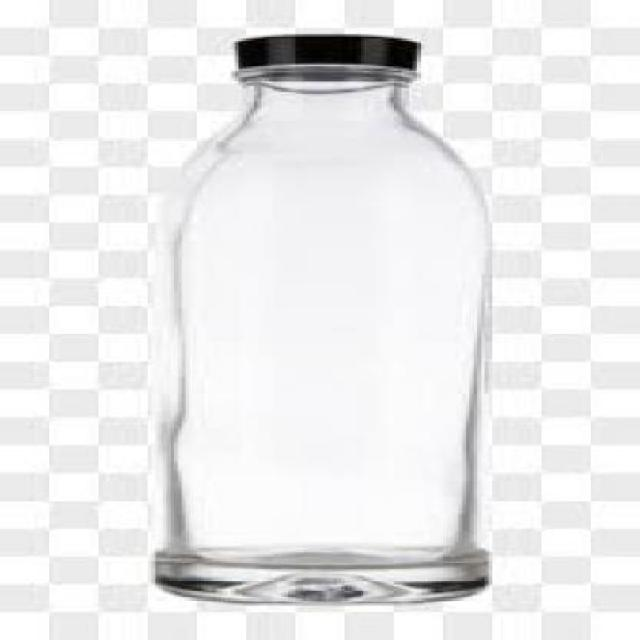kaca: (144, 65, 484, 603)
